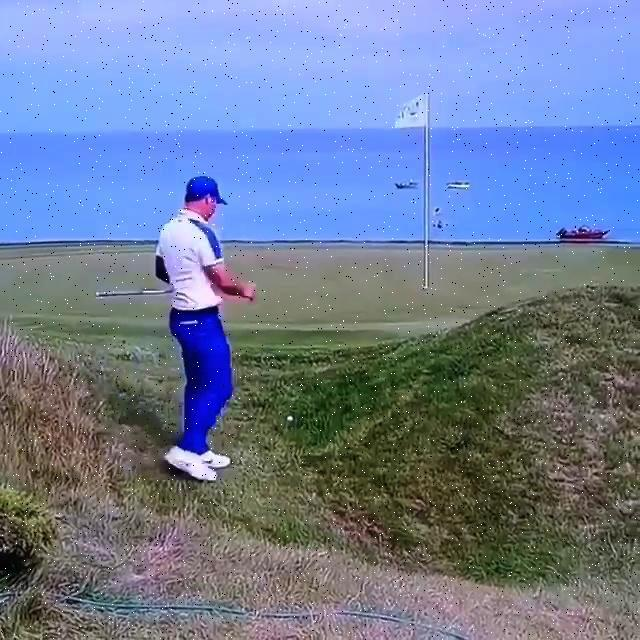golf ball: (286, 416, 293, 421)
golf club-handle: (95, 289, 172, 296)
